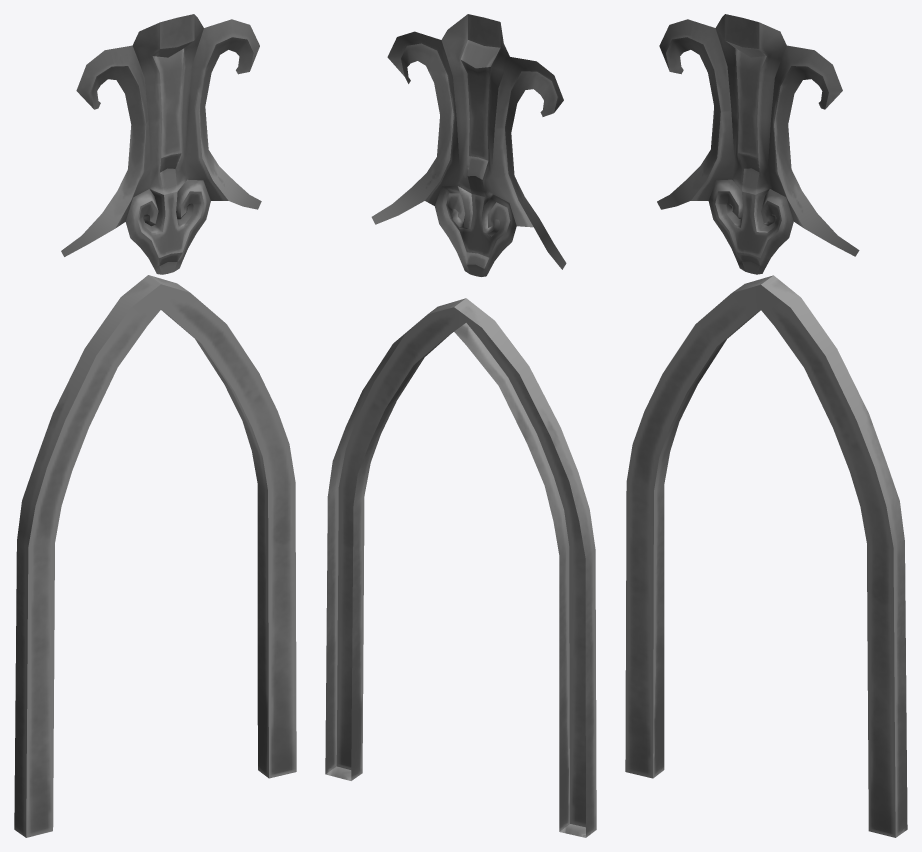
Rendered from TowerDetail.fbx.
3 renders of one model, left to right at view 1: azimuth 30°, elevation 25°; view 2: azimuth 150°, elevation 25°; view 3: azimuth 330°, elevation 25°, orthographic. The views are drawn at different scales.
Visible parts, largest first — view 1: vaultArc, towerDetail; view 2: vaultArc, towerDetail; view 3: vaultArc, towerDetail.
Boxes of the visible parts, box(x1,y1,x2,y2) form: vaultArc: box(14, 275, 296, 837); towerDetail: box(61, 14, 261, 274); vaultArc: box(325, 298, 596, 837); towerDetail: box(371, 14, 566, 276); vaultArc: box(625, 275, 907, 837); towerDetail: box(657, 14, 859, 274).
Bounding box in the file's own units: 1.77 × 5 × 0.3425.
